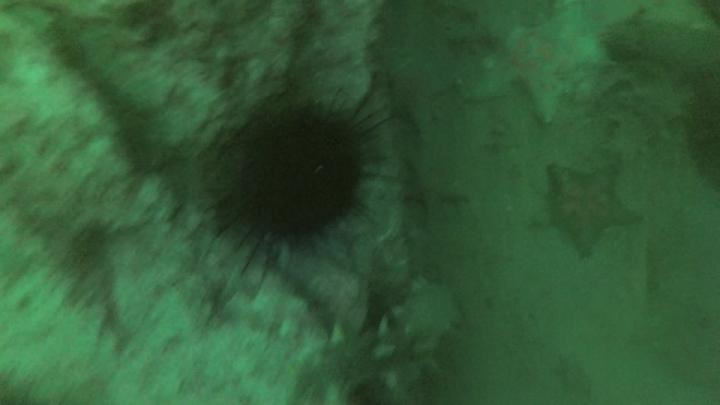echinus: (200, 78, 417, 284)
holothurian: (288, 312, 445, 405)
starfish: (469, 10, 614, 124), (536, 156, 646, 257)
